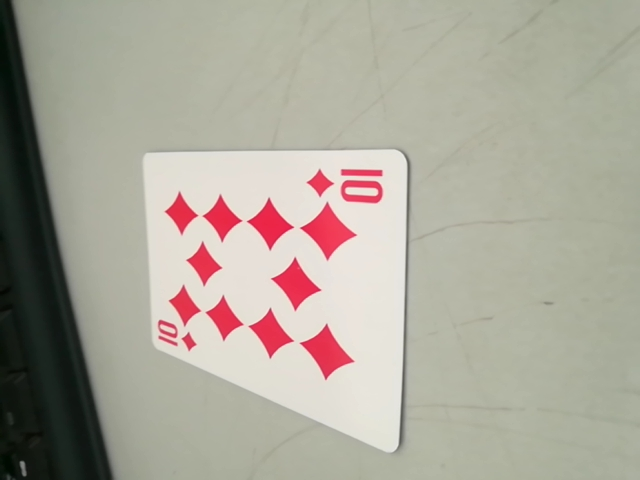fk 10: (305, 159, 391, 208), (152, 316, 204, 356)
